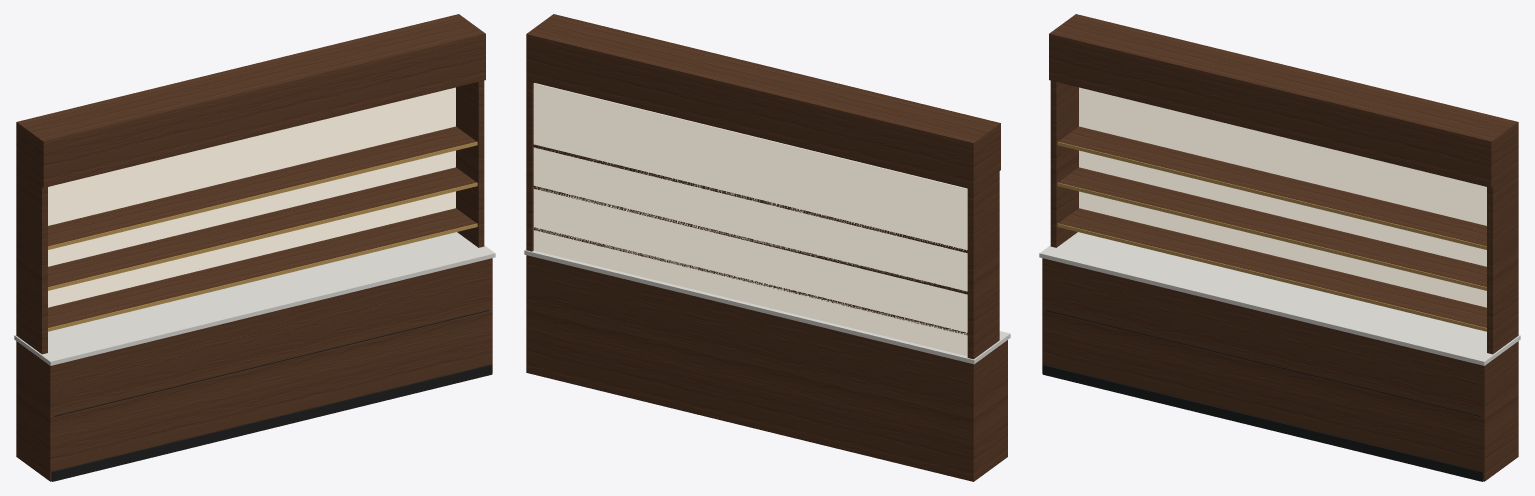
Rendered from Contacts_Wall_Bay.glb.
3 renders of one model, left to right at view 1: azimuth 30°, elevation 25°; view 2: azimuth 150°, elevation 25°; view 3: azimuth 330°, elevation 25°, orthographic.
Parts seen in each view (by area): view 1: Contacts_Wall_Bay_Walnut, Contacts_Wall_Bay_Backlit_Panel, Contacts_Wall_Bay_Stone, Contacts_Wall_Bay_Brass, Contacts_Wall_Bay_Black_Metal; view 2: Contacts_Wall_Bay_Walnut, Contacts_Wall_Bay_Backlit_Panel, Contacts_Wall_Bay_Stone; view 3: Contacts_Wall_Bay_Walnut, Contacts_Wall_Bay_Backlit_Panel, Contacts_Wall_Bay_Stone, Contacts_Wall_Bay_Brass, Contacts_Wall_Bay_Black_Metal.
Boxes of the visible parts, bbox=[...] form: Contacts_Wall_Bay_Walnut: bbox=[16, 14, 492, 481]; Contacts_Wall_Bay_Backlit_Panel: bbox=[48, 87, 455, 307]; Contacts_Wall_Bay_Stone: bbox=[14, 232, 495, 365]; Contacts_Wall_Bay_Brass: bbox=[48, 142, 477, 331]; Contacts_Wall_Bay_Black_Metal: bbox=[51, 310, 492, 481]; Contacts_Wall_Bay_Walnut: bbox=[526, 14, 1007, 481]; Contacts_Wall_Bay_Backlit_Panel: bbox=[533, 83, 967, 356]; Contacts_Wall_Bay_Stone: bbox=[524, 249, 1010, 364]; Contacts_Wall_Bay_Walnut: bbox=[1042, 14, 1518, 481]; Contacts_Wall_Bay_Backlit_Panel: bbox=[1079, 87, 1486, 307]; Contacts_Wall_Bay_Stone: bbox=[1039, 232, 1520, 365]; Contacts_Wall_Bay_Brass: bbox=[1057, 142, 1486, 331]; Contacts_Wall_Bay_Black_Metal: bbox=[1042, 310, 1483, 481].
Size of the model in its own units: 3.42 by 2.46 by 0.48.
6 materials, 1 textured.
